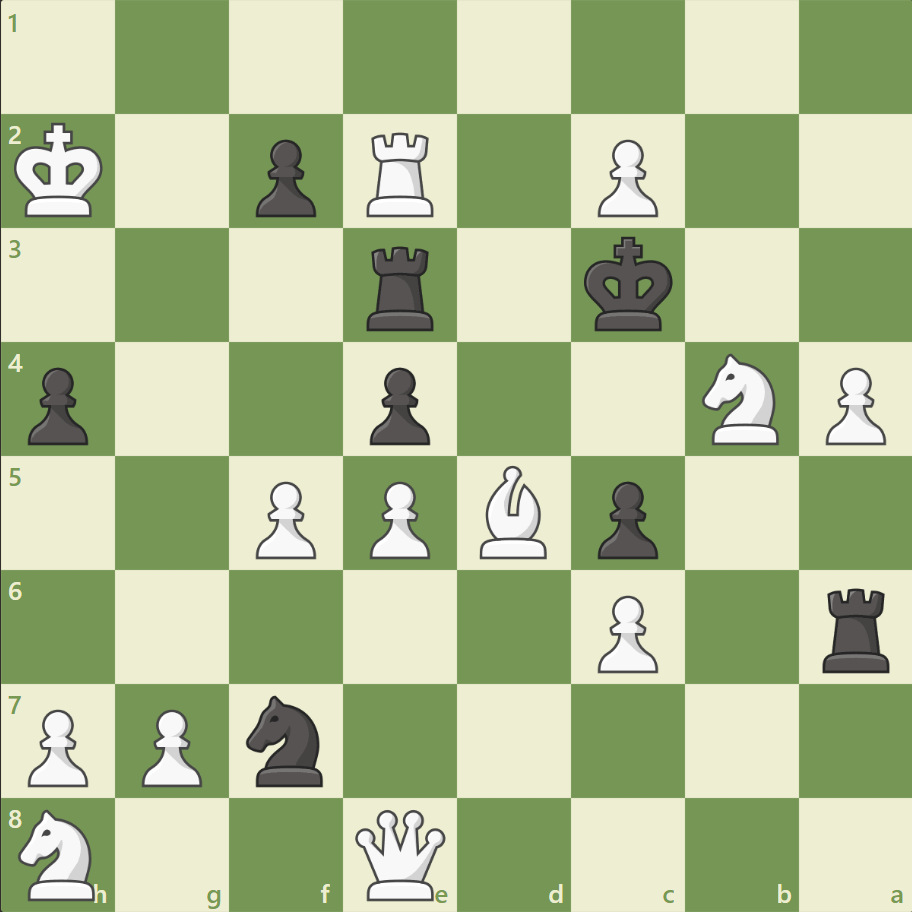B: (471, 460, 555, 563)
K: (11, 117, 111, 225)
N: (11, 802, 108, 904), (692, 348, 789, 450)
P: (133, 700, 208, 791), (20, 700, 95, 791), (247, 473, 322, 564), (588, 586, 662, 677), (361, 473, 435, 564), (815, 359, 889, 450), (588, 132, 662, 223)
Q: (351, 804, 450, 903)
R: (360, 125, 442, 222)
k: (579, 231, 679, 339)
n: (238, 688, 335, 791)
p: (20, 359, 95, 450), (247, 132, 322, 223), (588, 473, 662, 564), (361, 359, 435, 450)
r: (814, 579, 897, 676), (360, 239, 442, 336)
